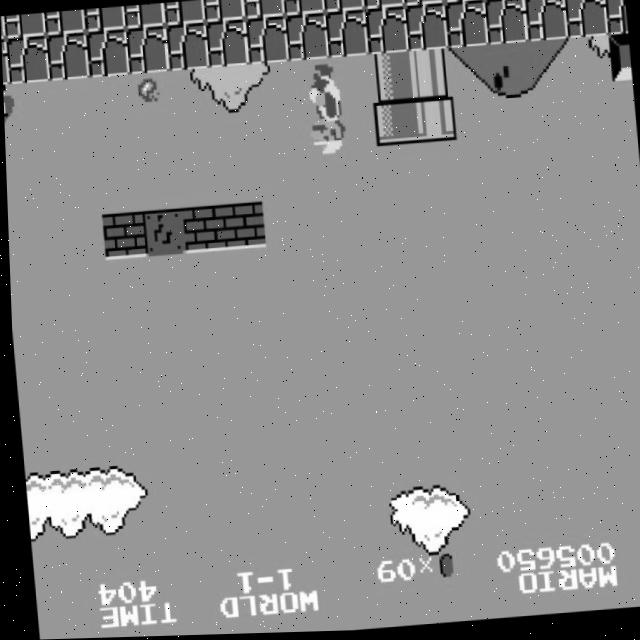1- brick_block: (180, 206, 225, 255), (100, 212, 145, 261), (220, 203, 264, 252)
13- mystery_block: (140, 209, 185, 258)
14- pipe: (408, 51, 453, 100), (368, 54, 413, 103)
15- pipe_head: (412, 96, 457, 145), (372, 99, 417, 148)
17- undestructible_block: (444, 2, 489, 51), (404, 5, 449, 54), (165, 23, 210, 72), (125, 26, 170, 75), (85, 30, 130, 79), (484, 0, 529, 48), (365, 8, 409, 57), (325, 11, 369, 60), (285, 14, 329, 63), (245, 17, 289, 66), (205, 20, 249, 69), (46, 32, 90, 81), (6, 35, 50, 84), (524, 0, 569, 45), (564, 0, 609, 42), (163, 1, 206, 27), (123, 4, 166, 30), (83, 7, 126, 33), (43, 10, 86, 36), (3, 13, 46, 39), (203, 0, 246, 24), (604, 0, 628, 39), (243, 0, 286, 21), (283, 0, 326, 17), (323, 0, 366, 14), (362, 0, 405, 12), (402, 0, 445, 9), (1, 38, 9, 85), (442, 0, 484, 6), (0, 16, 6, 40), (482, 0, 524, 3)
4- fire_mario: (302, 65, 352, 162)
5- fireball: (137, 79, 159, 107)
8- goomba: (2, 82, 20, 132)
9- hard_block: (608, 37, 631, 85)
